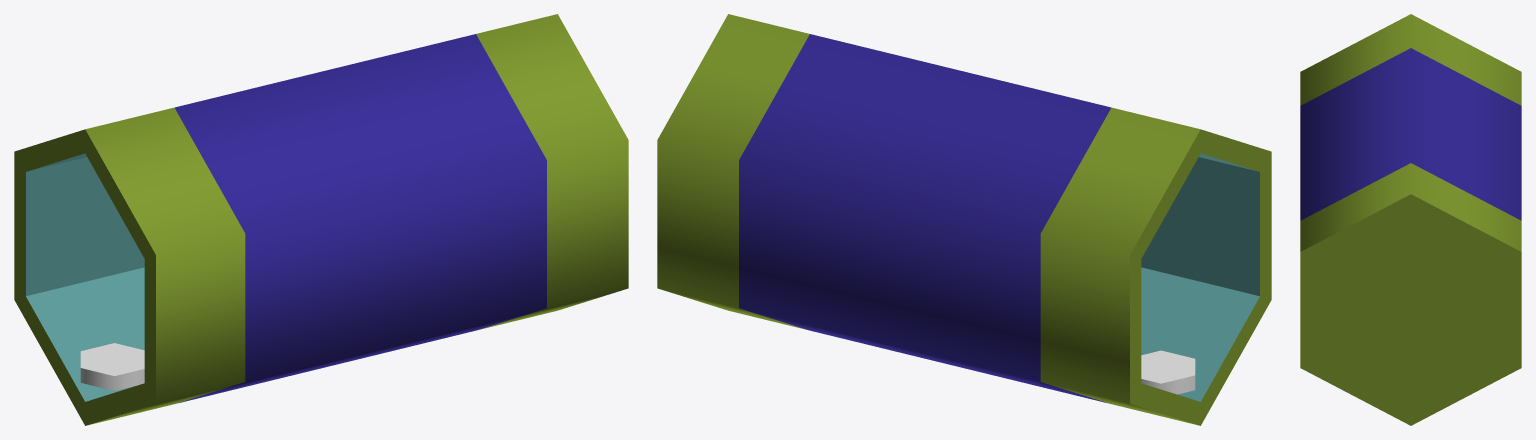
The model's file is Drogue.FBX.
3 renders of one model, left to right at view 1: azimuth 30°, elevation 25°; view 2: azimuth 150°, elevation 25°; view 3: azimuth 270°, elevation 25°, orthographic. The views are drawn at different scales.
Parts seen in each view (by area): view 1: Cylinder002, Cylinder003; view 2: Cylinder002, Cylinder003; view 3: Cylinder002.
Part boxes in pixels (<box>): Cylinder002: <box>14,14,628,425</box>; Cylinder003: <box>80,343,144,390</box>; Cylinder002: <box>657,14,1271,425</box>; Cylinder003: <box>1141,350,1195,394</box>; Cylinder002: <box>1300,14,1521,425</box>.
Size of the model in its own units: 10 by 6 by 5.2.
